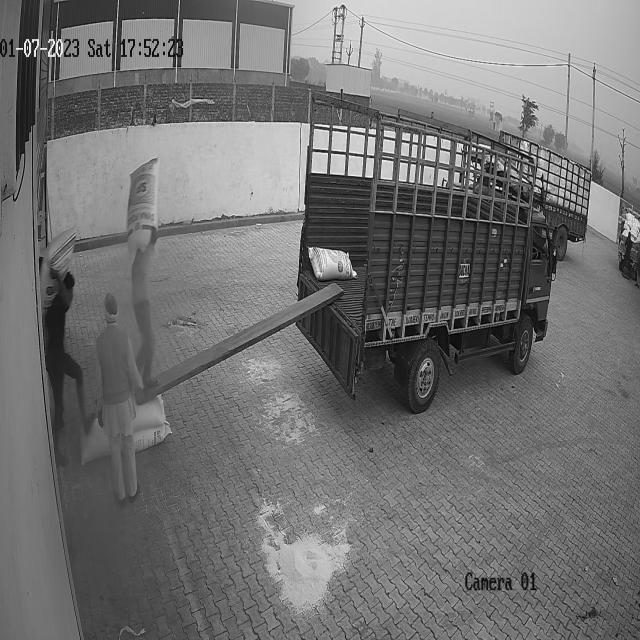sack: (127, 156, 159, 261), (40, 228, 77, 310), (307, 245, 357, 282), (78, 414, 110, 464), (132, 394, 165, 430), (133, 421, 171, 452)
